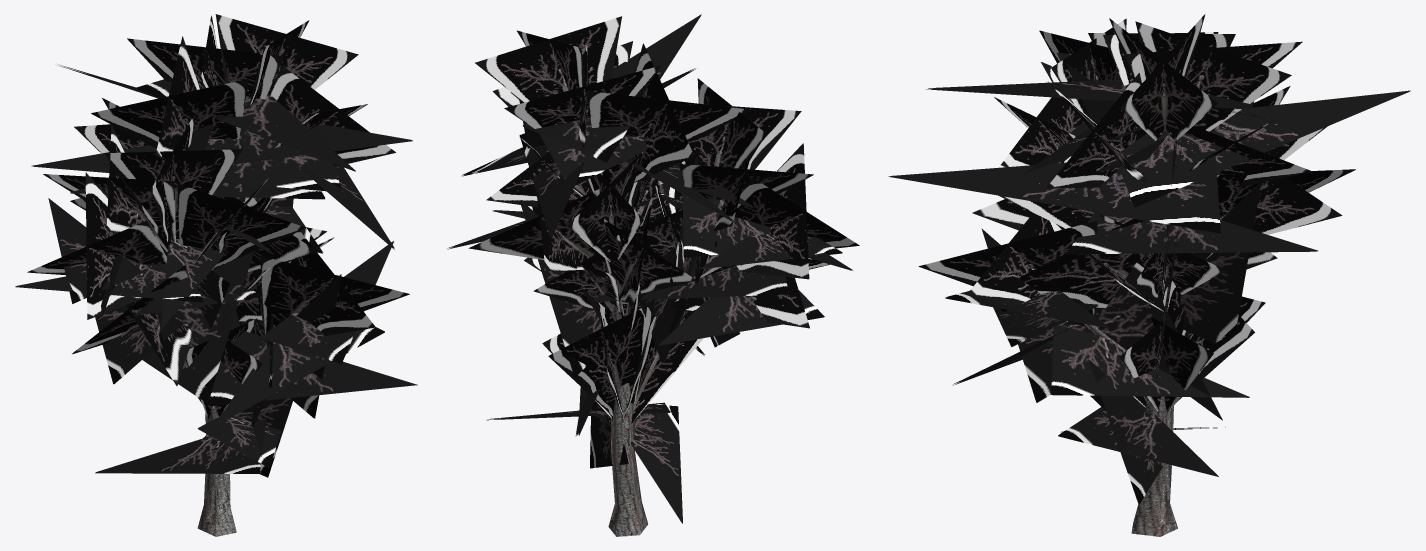
The model's file is flora_tree_elm_dead_v4.glb.
3 views of the same model, side by side, from view 1: azimuth 30°, elevation 25°; view 2: azimuth 150°, elevation 25°; view 3: azimuth 270°, elevation 25° (orthographic). The views are drawn at different scales.
Parts seen in each view (by area): view 1: flora_tree_elm_dead_v4_part0; view 2: flora_tree_elm_dead_v4_part0; view 3: flora_tree_elm_dead_v4_part0.
Part boxes in pixels (x1=…): flora_tree_elm_dead_v4_part0: x1=15, y1=14, x2=417, y2=536; flora_tree_elm_dead_v4_part0: x1=447, y1=14, x2=859, y2=536; flora_tree_elm_dead_v4_part0: x1=888, y1=14, x2=1410, y2=536.
Bounding box in the file's own units: 20.76 × 26.26 × 23.65.
Materials: 1 (1 with a texture image).
